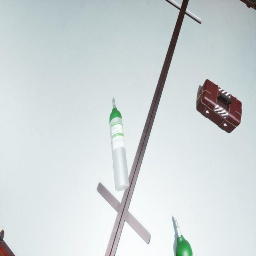0: (110, 96, 129, 192), (174, 217, 194, 256)
FirstAidBox ,: (197, 79, 242, 133)
